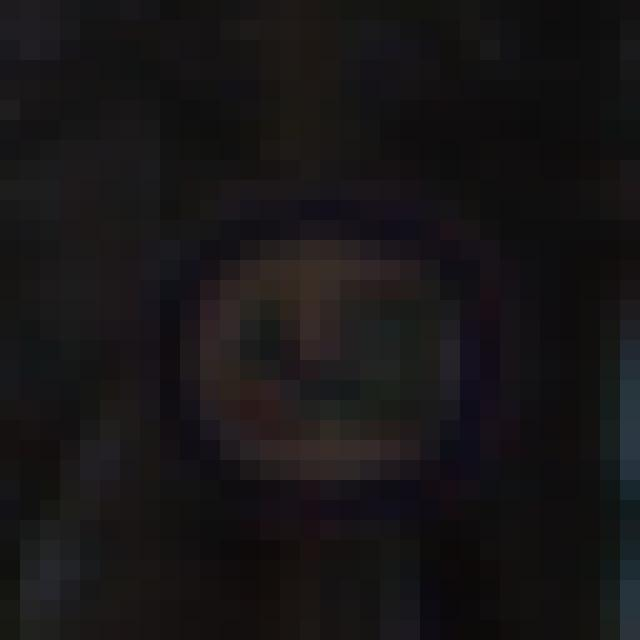SPEED-LIMIT-60: (164, 182, 526, 533)
